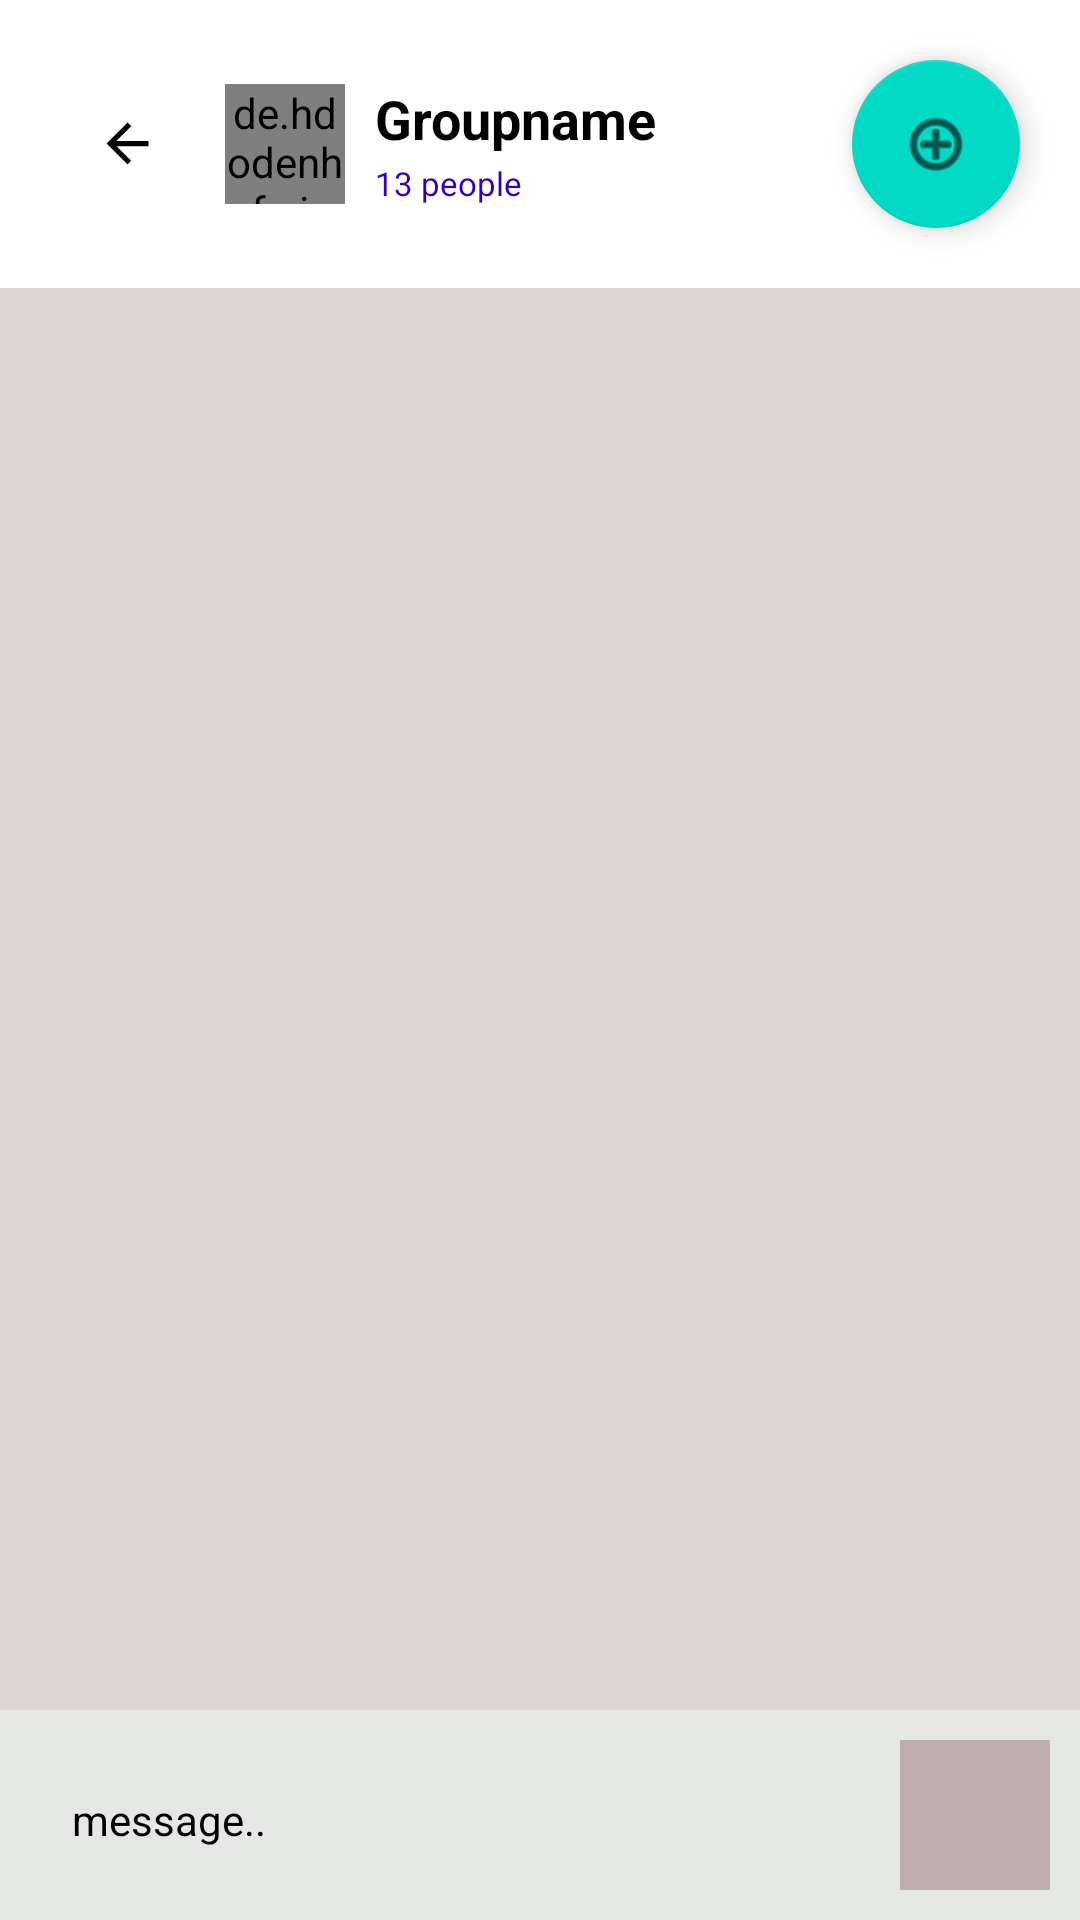

Where icons sit on this 1080 × 1920 app screen, as (x1, y1, x2, y2):
add: (852, 60, 1020, 228)
arrow back: (106, 122, 149, 165)
